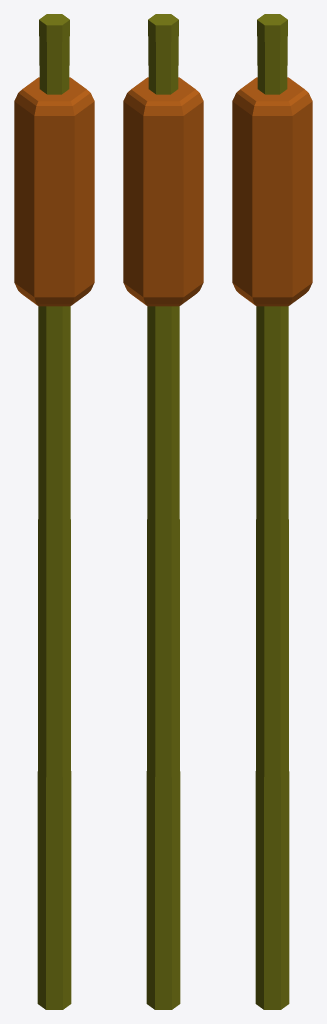
File: cattail.glb
3 renders of one model, left to right at view 1: azimuth 90°, elevation 25°; view 2: azimuth 210°, elevation 25°; view 3: azimuth 270°, elevation 25°, orthographic.
Visible parts, largest first — view 1: cattail; view 2: cattail; view 3: cattail.
Part boxes in pixels (x1,y1,x2,y2): cattail: [14, 14, 94, 1009]; cattail: [123, 14, 203, 1009]; cattail: [232, 14, 312, 1009].
Bounding box in the file's own units: 0.3448 × 5.37 × 0.3981.
1 material, 1 textured.
